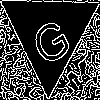G: (24, 9, 74, 68)
